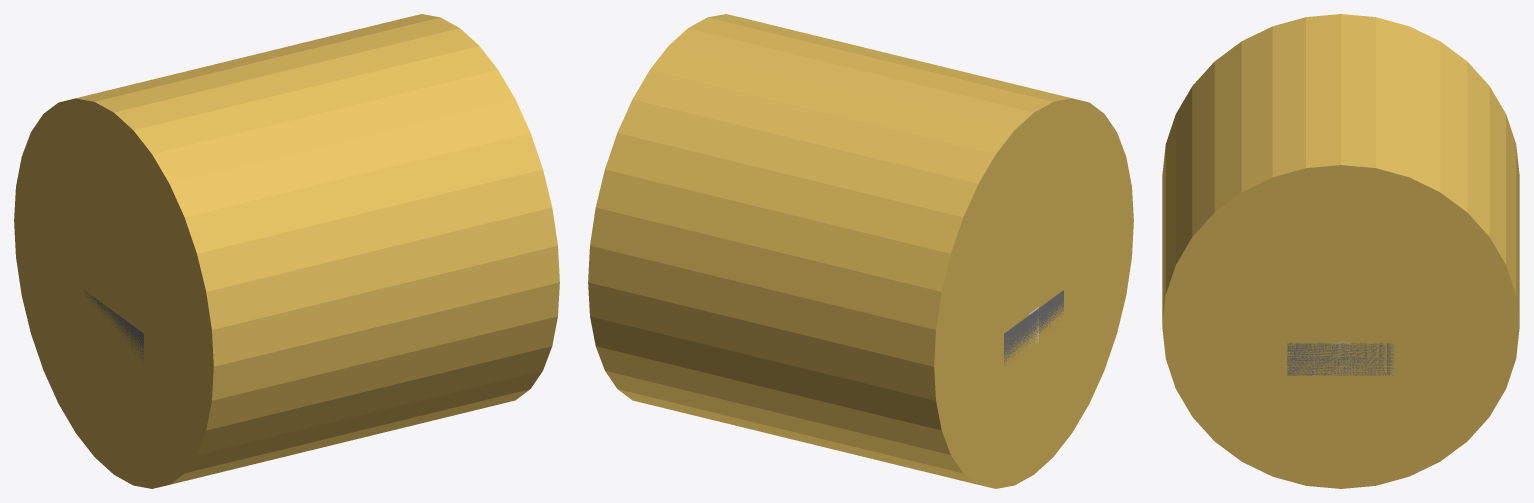
3 renders of one model, left to right at view 1: azimuth 30°, elevation 25°; view 2: azimuth 150°, elevation 25°; view 3: azimuth 270°, elevation 25°, orthographic. The views are drawn at different scales.
Parts seen in each view (by area): view 1: Cylinder, Cube.001; view 2: Cylinder, Cube.001; view 3: Cylinder, Cube.001.
Boxes of the visible parts, x1,y1,x2,y2 form: Cylinder: [14, 14, 559, 488]; Cube.001: [84, 290, 143, 364]; Cylinder: [588, 14, 1133, 488]; Cube.001: [1004, 290, 1063, 364]; Cylinder: [1162, 14, 1519, 488]; Cube.001: [1287, 343, 1394, 375].
Bounding box in the file's own units: 2 × 2 × 2.
